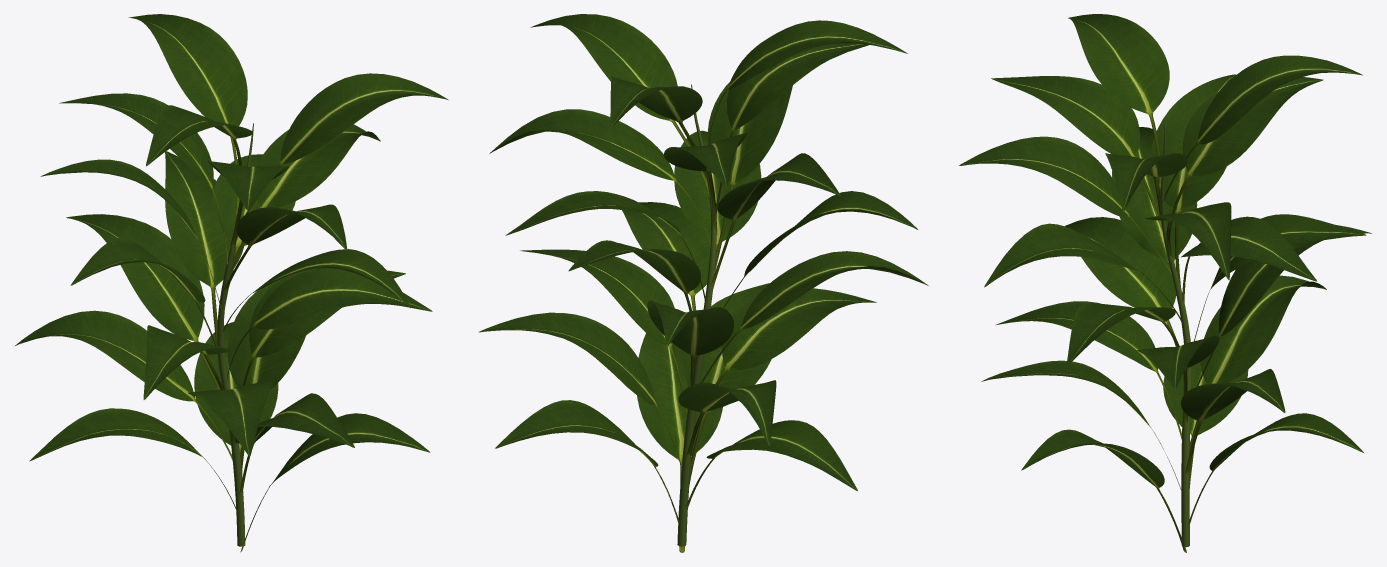
The model's file is plantitaarbolito.glb.
3 views of the same model, side by side, from view 1: azimuth 30°, elevation 25°; view 2: azimuth 150°, elevation 25°; view 3: azimuth 270°, elevation 25° (orthographic). The views are drawn at different scales.
Visible parts, largest first — view 1: Leaf 2.001, Leaf 2.003; view 2: Leaf 2.001, Leaf 2.003; view 3: Leaf 2.001, Leaf 2.003.
Boxes of the visible parts, x1=… form: Leaf 2.001: x1=15, y1=14, x2=448, y2=552; Leaf 2.003: x1=217, y1=123, x2=253, y2=546; Leaf 2.001: x1=478, y1=14, x2=928, y2=552; Leaf 2.003: x1=677, y1=84, x2=716, y2=546; Leaf 2.001: x1=959, y1=14, x2=1371, y2=552; Leaf 2.003: x1=1160, y1=124, x2=1191, y2=547.
Size of the model in its own units: 0.548 by 0.6835 by 0.5332.
Materials: 2 (1 with a texture image).
